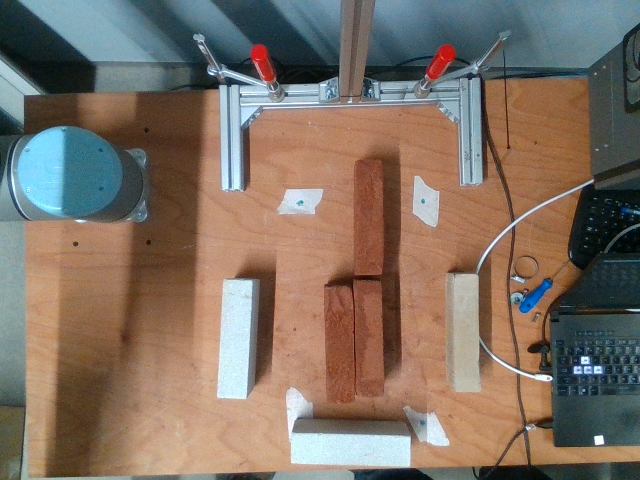brick-side: (218, 279, 252, 400), (294, 434, 411, 466), (355, 280, 384, 396), (325, 287, 352, 402), (357, 161, 382, 275), (455, 275, 479, 391)
